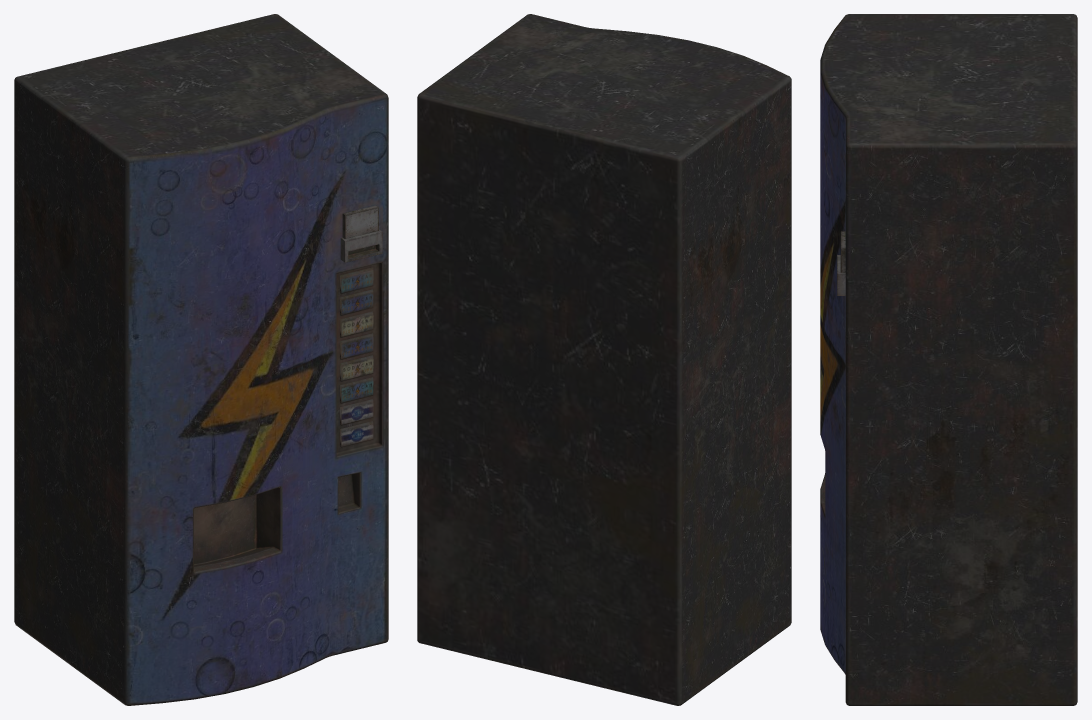
File: SM_Vending_Machine.glb
3 views of the same model, side by side, from view 1: azimuth 30°, elevation 25°; view 2: azimuth 150°, elevation 25°; view 3: azimuth 270°, elevation 25° (orthographic). The views are drawn at different scales.
Parts seen in each view (by area): view 1: SM_Vending_Machine; view 2: SM_Vending_Machine; view 3: SM_Vending_Machine.
Boxes of the visible parts, <box> form: SM_Vending_Machine: <box>14,14,388,705</box>; SM_Vending_Machine: <box>417,14,791,705</box>; SM_Vending_Machine: <box>820,14,1077,705</box>.
Bounding box in the file's own units: 1.01 × 2 × 0.828.
Materials: 1 (1 with a texture image).
